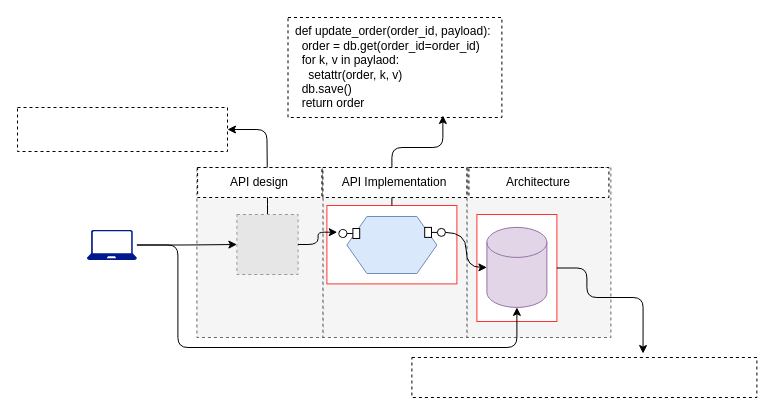
Image size: 775x415. Some labels were removed from this diagram. Grey dashed boxes stand in for pictures. The shapes that lost their labels are listed below. From the top down, each one's centre as x and y in pixels, then its label:
At [122,129]: "GET /products?perPage=1000000 GET /products?filter=' OR 1=1--".
At [584,377]: "psql postgres://postgres:postgres@127.0.0.1:5432/postgres".
